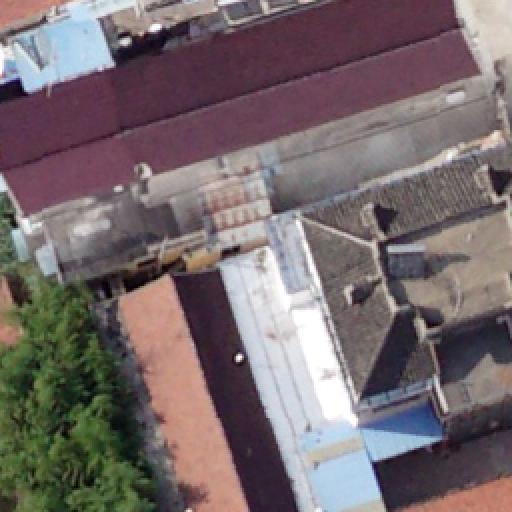solar-panel: (184, 0, 196, 4)
